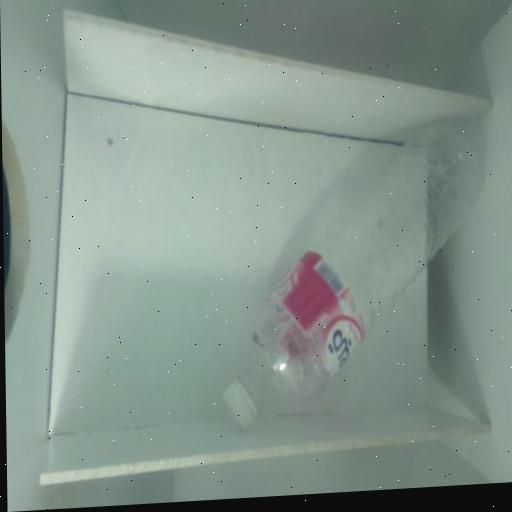bottle: (196, 106, 509, 450)
